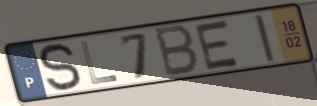7: (117, 30, 151, 81)
B: (153, 23, 201, 79)
E: (192, 18, 243, 73)
I: (251, 12, 278, 64)
L: (78, 40, 121, 87)
S: (37, 41, 84, 94)
